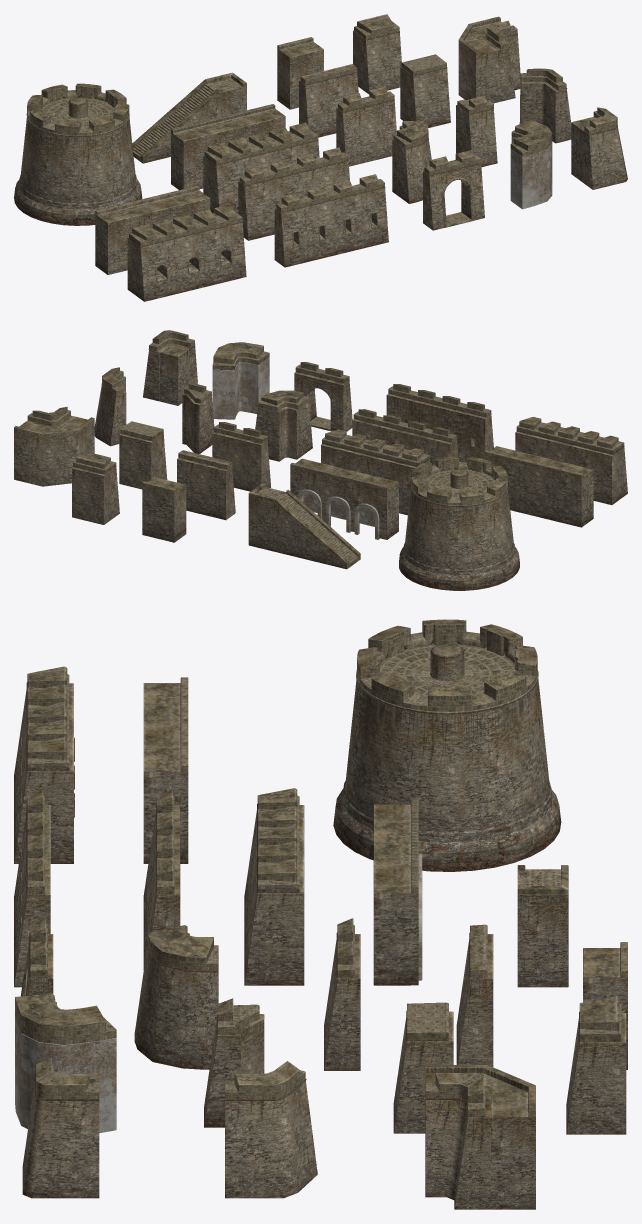
The model's file is modular_fort.gltf.
3 renders of one model, top to bottom at view 1: azimuth 30°, elevation 25°; view 2: azimuth 150°, elevation 25°; view 3: azimuth 270°, elevation 25°, orthographic. The views are drawn at different scales.
Visible parts, largest first — view 1: modular_fort_01_tower_round, modular_fort_01_wall_thick_straight_02, modular_fort_01_wall_thin_straight_02, modular_fort_01_wall_thin_straight_01, modular_fort_01_wall_thick_straight_01, modular_fort_01_wall_walkway_straight_02, modular_fort_01_wall_walkway_straight_01, modular_fort_01_wall_stairs_straight_01, modular_fort_01_wall_thin_straight_04, modular_fort_01_wall_thin_gate_01, modular_fort_01_wall_thick_corner_02, modular_fort_01_wall_thick_end_02 (+10 smaller); view 2: modular_fort_01_tower_round, modular_fort_01_wall_walkway_straight_01, modular_fort_01_wall_walkway_straight_02, modular_fort_01_wall_stairs_straight_01, modular_fort_01_wall_thick_straight_02, modular_fort_01_wall_walkway_corner_01, modular_fort_01_wall_thin_straight_02, modular_fort_01_wall_thick_straight_01, modular_fort_01_wall_thick_corner_02, modular_fort_01_wall_thick_corner_01, modular_fort_01_wall_thin_straight_03, modular_fort_01_wall_thick_end_02 (+10 smaller); view 3: modular_fort_01_tower_round, modular_fort_01_wall_thick_straight_01, modular_fort_01_wall_thin_corner_03, modular_fort_01_wall_thick_corner_01, modular_fort_01_wall_thin_corner_02, modular_fort_01_wall_thick_straight_02, modular_fort_01_wall_walkway_straight_01, modular_fort_01_wall_thick_corner_02, modular_fort_01_wall_thin_corner_01, modular_fort_01_wall_thick_end_02, modular_fort_01_wall_walkway_corner_01, modular_fort_01_wall_walkway_straight_02 (+9 smaller).
Boxes of the visible parts, x1=… form: modular_fort_01_tower_round: x1=14, y1=83, x2=142, y2=225; modular_fort_01_wall_thick_straight_02: x1=127, y1=204, x2=246, y2=301; modular_fort_01_wall_thin_straight_02: x1=274, y1=174, x2=388, y2=267; modular_fort_01_wall_thin_straight_01: x1=238, y1=147, x2=349, y2=240; modular_fort_01_wall_thick_straight_01: x1=203, y1=122, x2=319, y2=213; modular_fort_01_wall_walkway_straight_02: x1=95, y1=185, x2=210, y2=274; modular_fort_01_wall_walkway_straight_01: x1=171, y1=104, x2=285, y2=189; modular_fort_01_wall_stairs_straight_01: x1=132, y1=72, x2=246, y2=163; modular_fort_01_wall_thin_straight_04: x1=336, y1=86, x2=396, y2=166; modular_fort_01_wall_thin_gate_01: x1=423, y1=150, x2=484, y2=230; modular_fort_01_wall_thick_corner_02: x1=510, y1=120, x2=552, y2=209; modular_fort_01_wall_thick_end_02: x1=353, y1=14, x2=401, y2=94; modular_fort_01_tower_round: x1=399, y1=456, x2=519, y2=590; modular_fort_01_wall_walkway_straight_01: x1=290, y1=458, x2=398, y2=539; modular_fort_01_wall_walkway_straight_02: x1=484, y1=446, x2=593, y2=527; modular_fort_01_wall_stairs_straight_01: x1=248, y1=483, x2=360, y2=569; modular_fort_01_wall_thick_straight_02: x1=515, y1=417, x2=627, y2=504; modular_fort_01_wall_walkway_corner_01: x1=14, y1=416, x2=94, y2=486; modular_fort_01_wall_thin_straight_02: x1=386, y1=384, x2=493, y2=462; modular_fort_01_wall_thick_straight_01: x1=321, y1=429, x2=430, y2=515; modular_fort_01_wall_thick_corner_02: x1=212, y1=342, x2=269, y2=419; modular_fort_01_wall_thick_corner_01: x1=255, y1=390, x2=312, y2=461; modular_fort_01_wall_thin_straight_03: x1=177, y1=450, x2=235, y2=520; modular_fort_01_wall_thick_end_02: x1=72, y1=452, x2=119, y2=524; modular_fort_01_tower_round: x1=333, y1=619, x2=561, y2=871; modular_fort_01_wall_thick_straight_01: x1=244, y1=788, x2=304, y2=985; modular_fort_01_wall_thin_corner_03: x1=225, y1=1061, x2=317, y2=1198; modular_fort_01_wall_thick_corner_01: x1=134, y1=925, x2=218, y2=1069; modular_fort_01_wall_thin_corner_02: x1=22, y1=1058, x2=99, y2=1198; modular_fort_01_wall_thick_straight_02: x1=14, y1=666, x2=74, y2=863; modular_fort_01_wall_walkway_straight_01: x1=373, y1=799, x2=422, y2=985; modular_fort_01_wall_thick_corner_02: x1=15, y1=993, x2=116, y2=1133; modular_fort_01_wall_thin_corner_01: x1=425, y1=1072, x2=490, y2=1209; modular_fort_01_wall_thick_end_02: x1=566, y1=996, x2=626, y2=1134; modular_fort_01_wall_walkway_corner_01: x1=425, y1=1065, x2=535, y2=1209; modular_fort_01_wall_walkway_straight_02: x1=143, y1=677, x2=188, y2=863.
Size of the model in its own units: 71.38 by 13.67 by 42.67.
3 materials, 3 textured.
